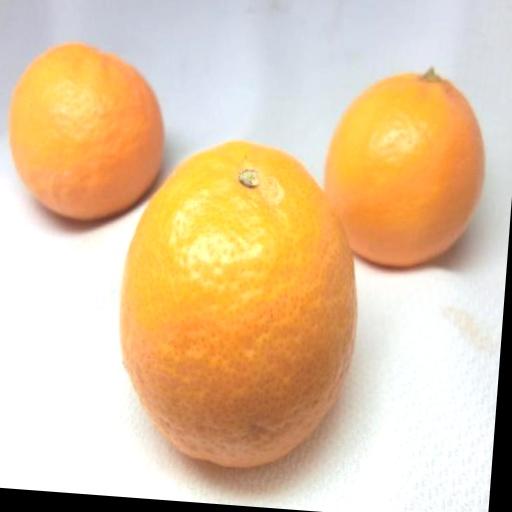fruit: (119, 142, 355, 466), (324, 71, 483, 266), (9, 44, 162, 219)
